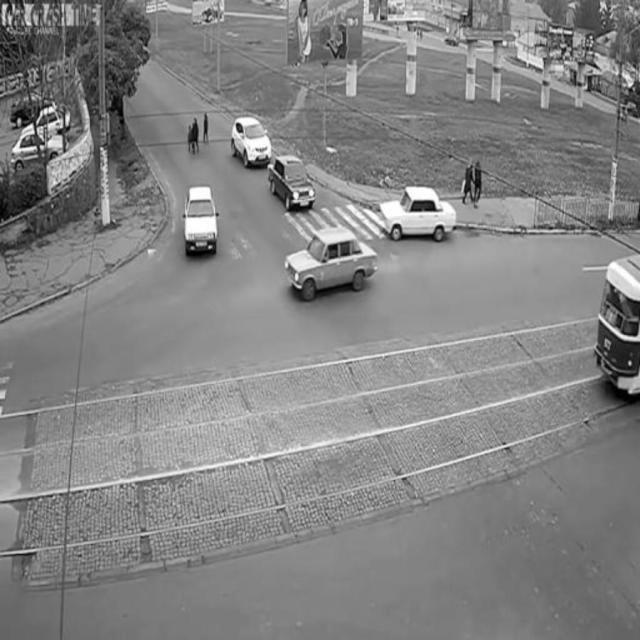person: (459, 152, 485, 206), (184, 109, 202, 164), (202, 101, 212, 147)
vehicle: (284, 227, 376, 313), (595, 254, 640, 398), (385, 188, 456, 239), (268, 151, 318, 215), (13, 131, 71, 173), (184, 184, 214, 264), (230, 114, 272, 169)
